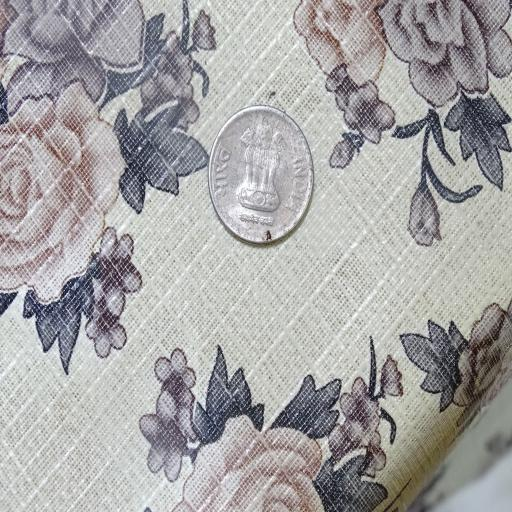rupee1: (206, 107, 311, 248)
